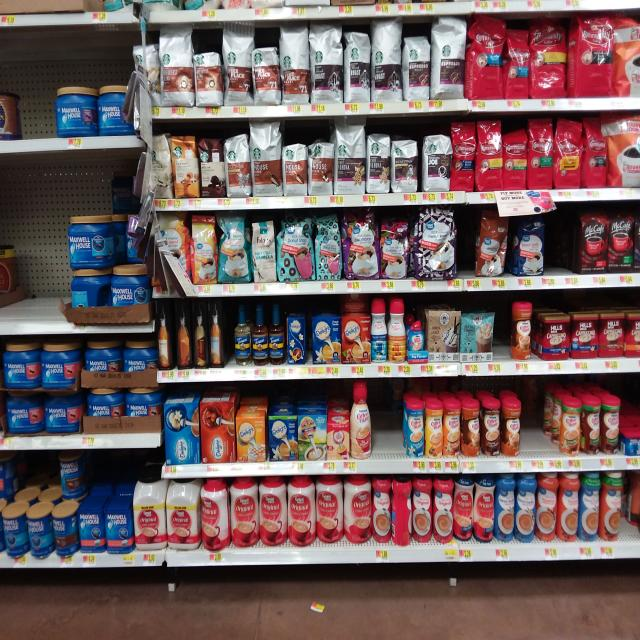unorganised: (473, 214, 511, 277), (391, 480, 414, 546), (111, 167, 138, 214), (57, 453, 83, 499)
